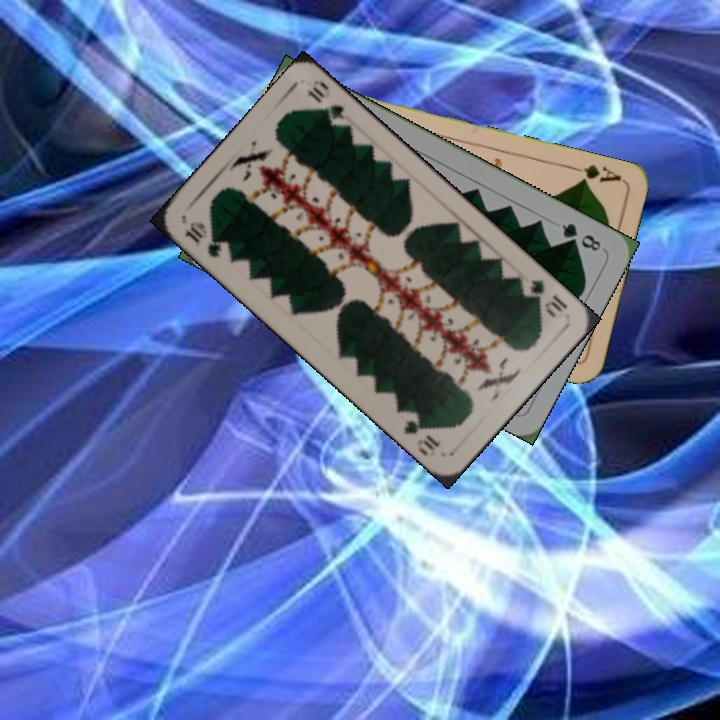G10: (180, 217, 234, 261), (524, 275, 571, 321)
G8: (557, 219, 604, 254)
GA: (565, 160, 624, 186)
